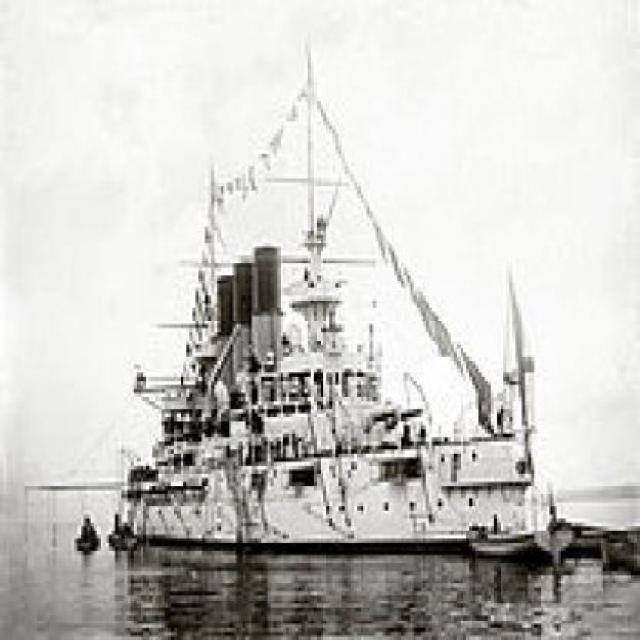warship2: (91, 90, 585, 581)
